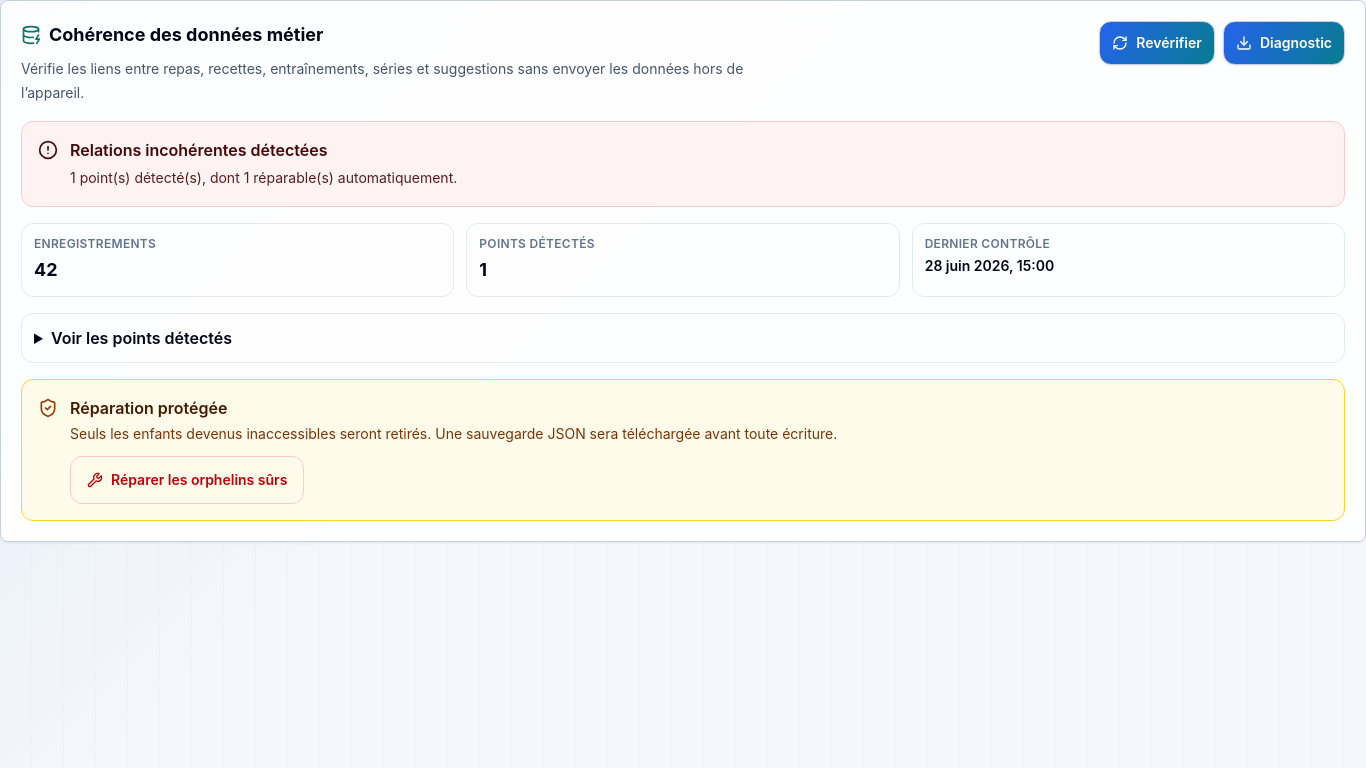
Scenario: DataConsistencyPanel › crée la sauvegarde avant la réparation
The image size is (1366, 768).
Click the button "Réparer les orphelins sûrs": point(187, 480) [70, 456, 304, 504]
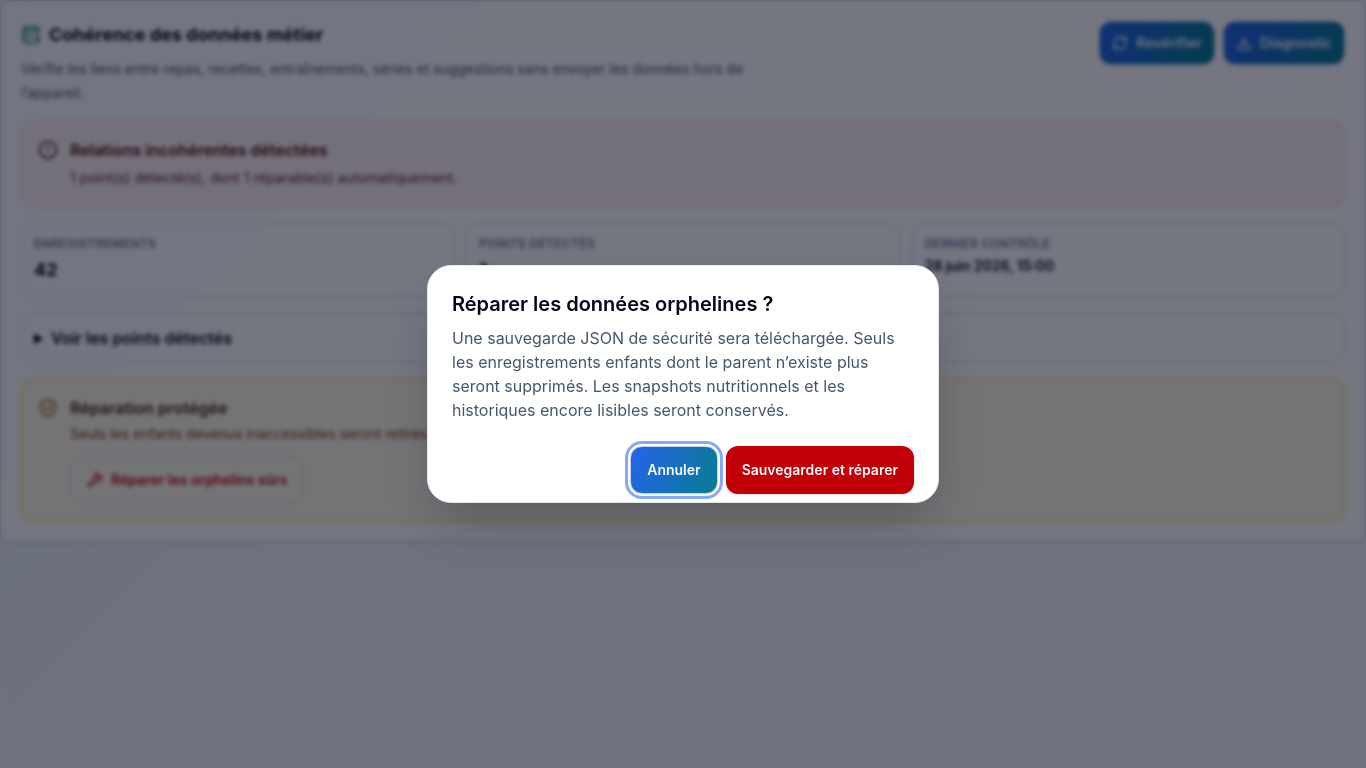
Click the button "Sauvegarder et réparer": point(820, 470) [726, 446, 914, 494]
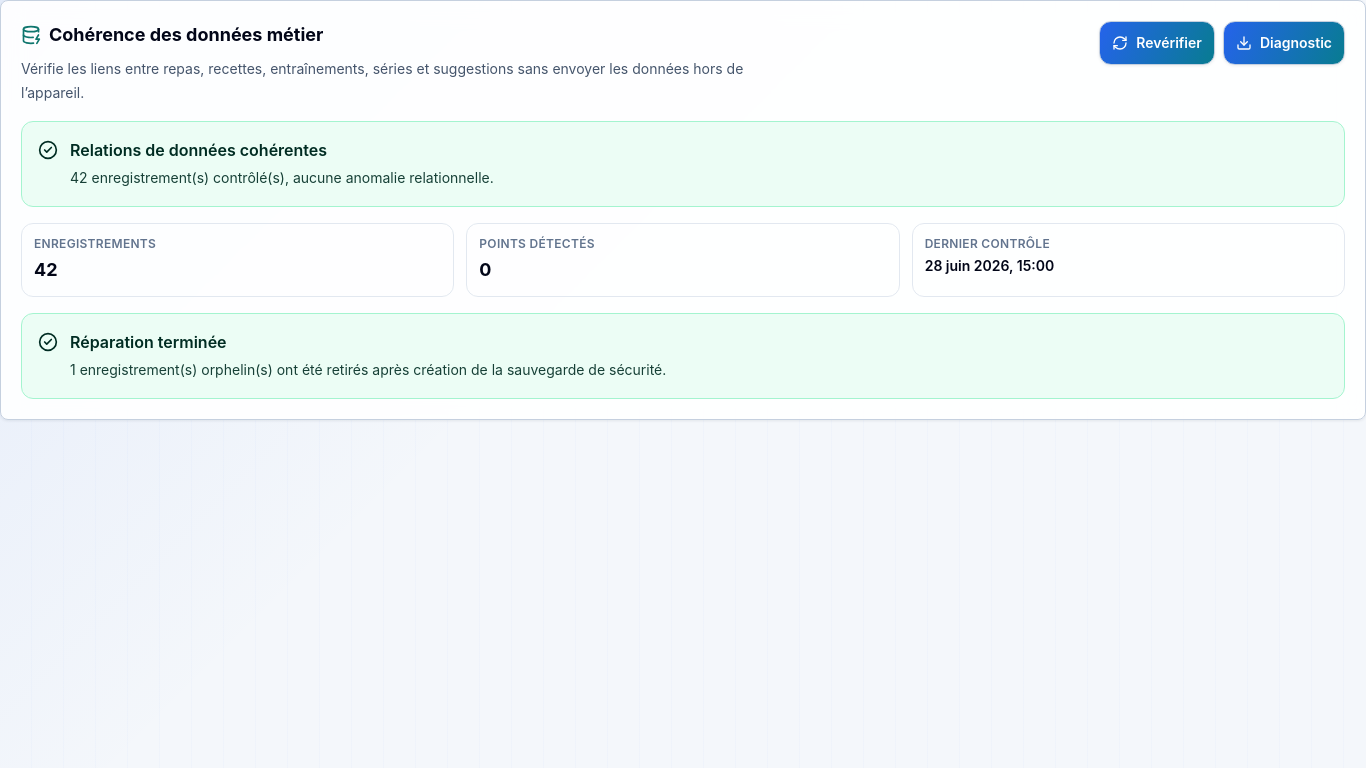
Expected: the text "Réparation terminée" is shown, [70, 332, 227, 352]
